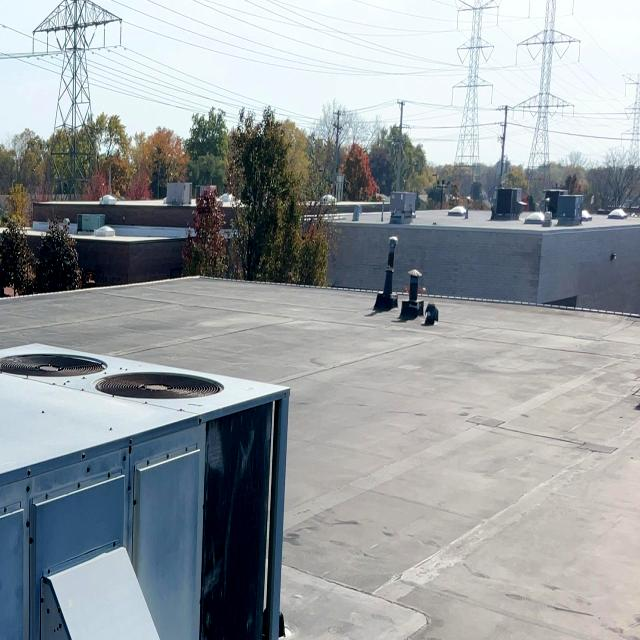RTU: (0, 344, 11, 640)
